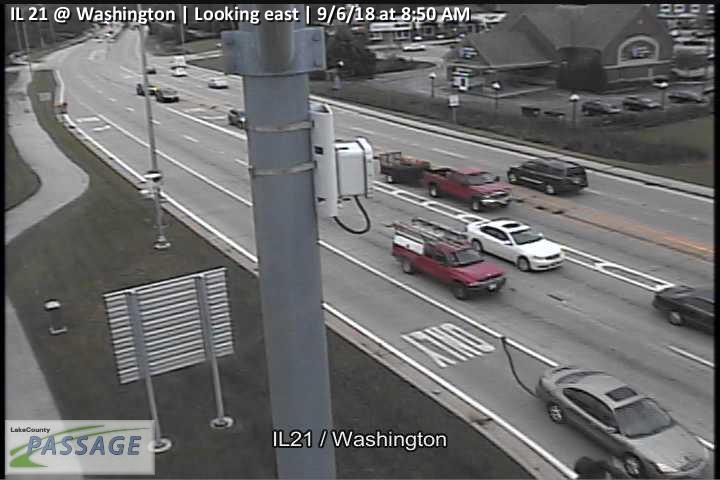SUV: (391, 218, 507, 300), (506, 156, 588, 195), (582, 99, 622, 119), (621, 95, 663, 114), (228, 108, 245, 128), (169, 65, 187, 77)
Sedan: (538, 364, 709, 480), (465, 217, 566, 271), (652, 283, 713, 334), (667, 91, 710, 108), (155, 87, 180, 103), (206, 77, 229, 89)
Truck: (379, 150, 511, 211)
